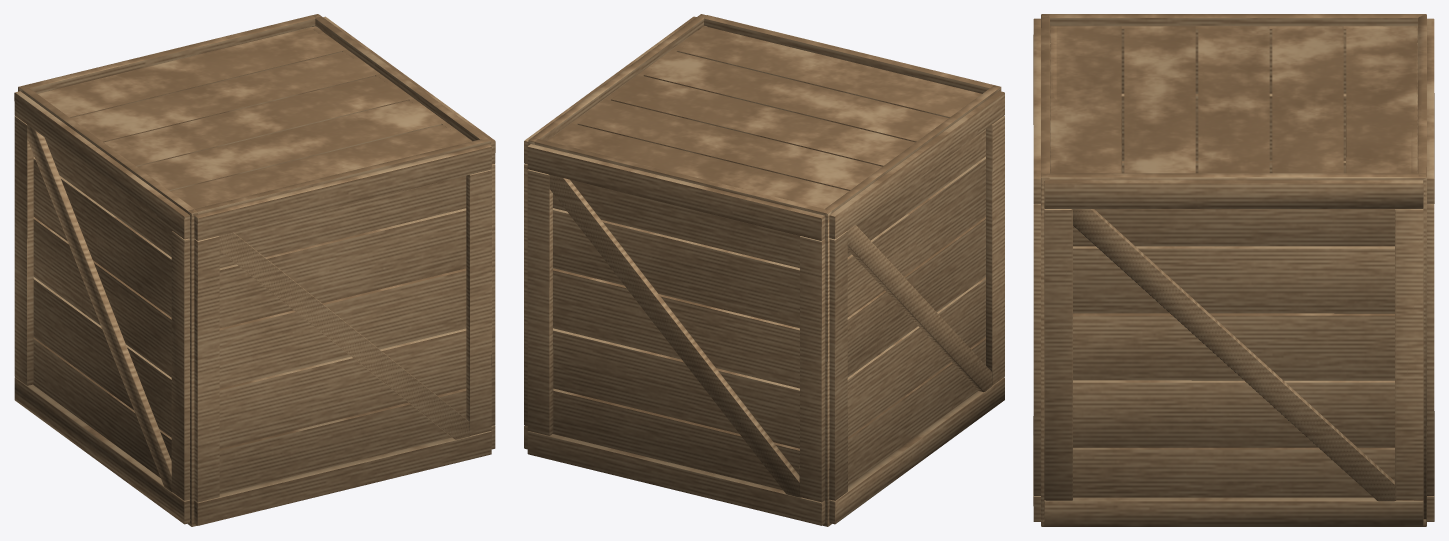
File: SM_WoodCrate_LOD1.fbx
3 renders of one model, left to right at view 1: azimuth 30°, elevation 25°; view 2: azimuth 150°, elevation 25°; view 3: azimuth 270°, elevation 25°, orthographic. The views are drawn at different scales.
Visible parts, largest first — view 1: SM_WoodCrate_LOD1; view 2: SM_WoodCrate_LOD1; view 3: SM_WoodCrate_LOD1.
Boxes of the visible parts, x1=… form: SM_WoodCrate_LOD1: x1=14, y1=14, x2=495, y2=526; SM_WoodCrate_LOD1: x1=524, y1=14, x2=1004, y2=526; SM_WoodCrate_LOD1: x1=1033, y1=14, x2=1434, y2=526.
Size of the model in its own units: 1.25 by 1.2 by 1.25.
Materials: 1 (1 with a texture image).
